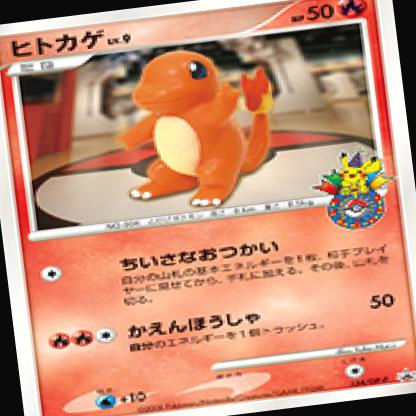Charmander: (108, 35, 291, 219)
